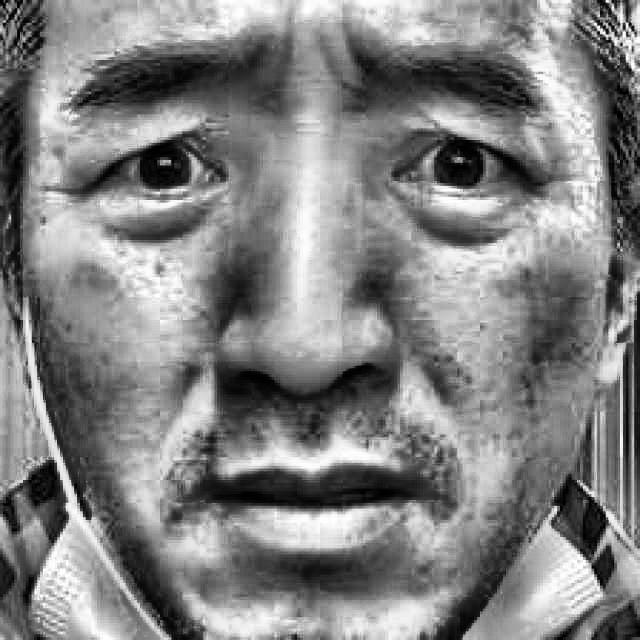fear: (73, 34, 588, 574)
